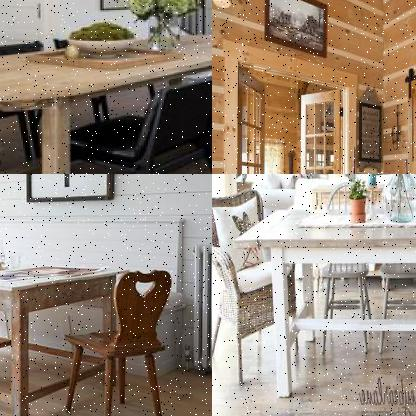table: (230, 199, 415, 398), (0, 28, 211, 173), (0, 249, 141, 415)
